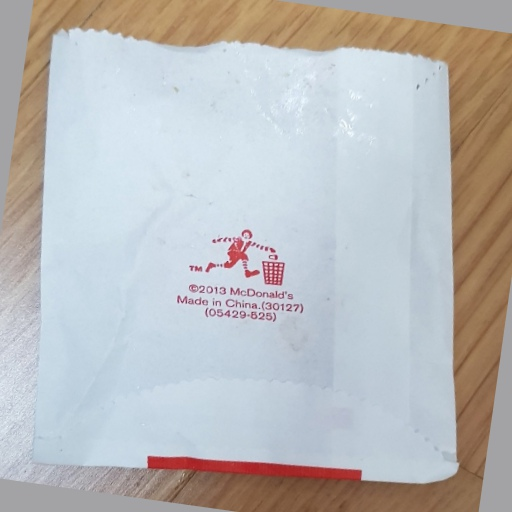Paper_2: (36, 14, 468, 497)
